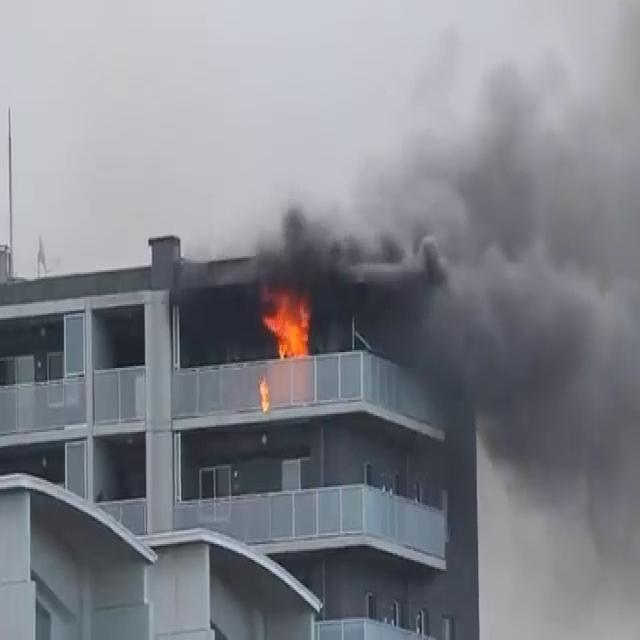Fire: (258, 286, 318, 364)
Smoke: (253, 43, 640, 550)
